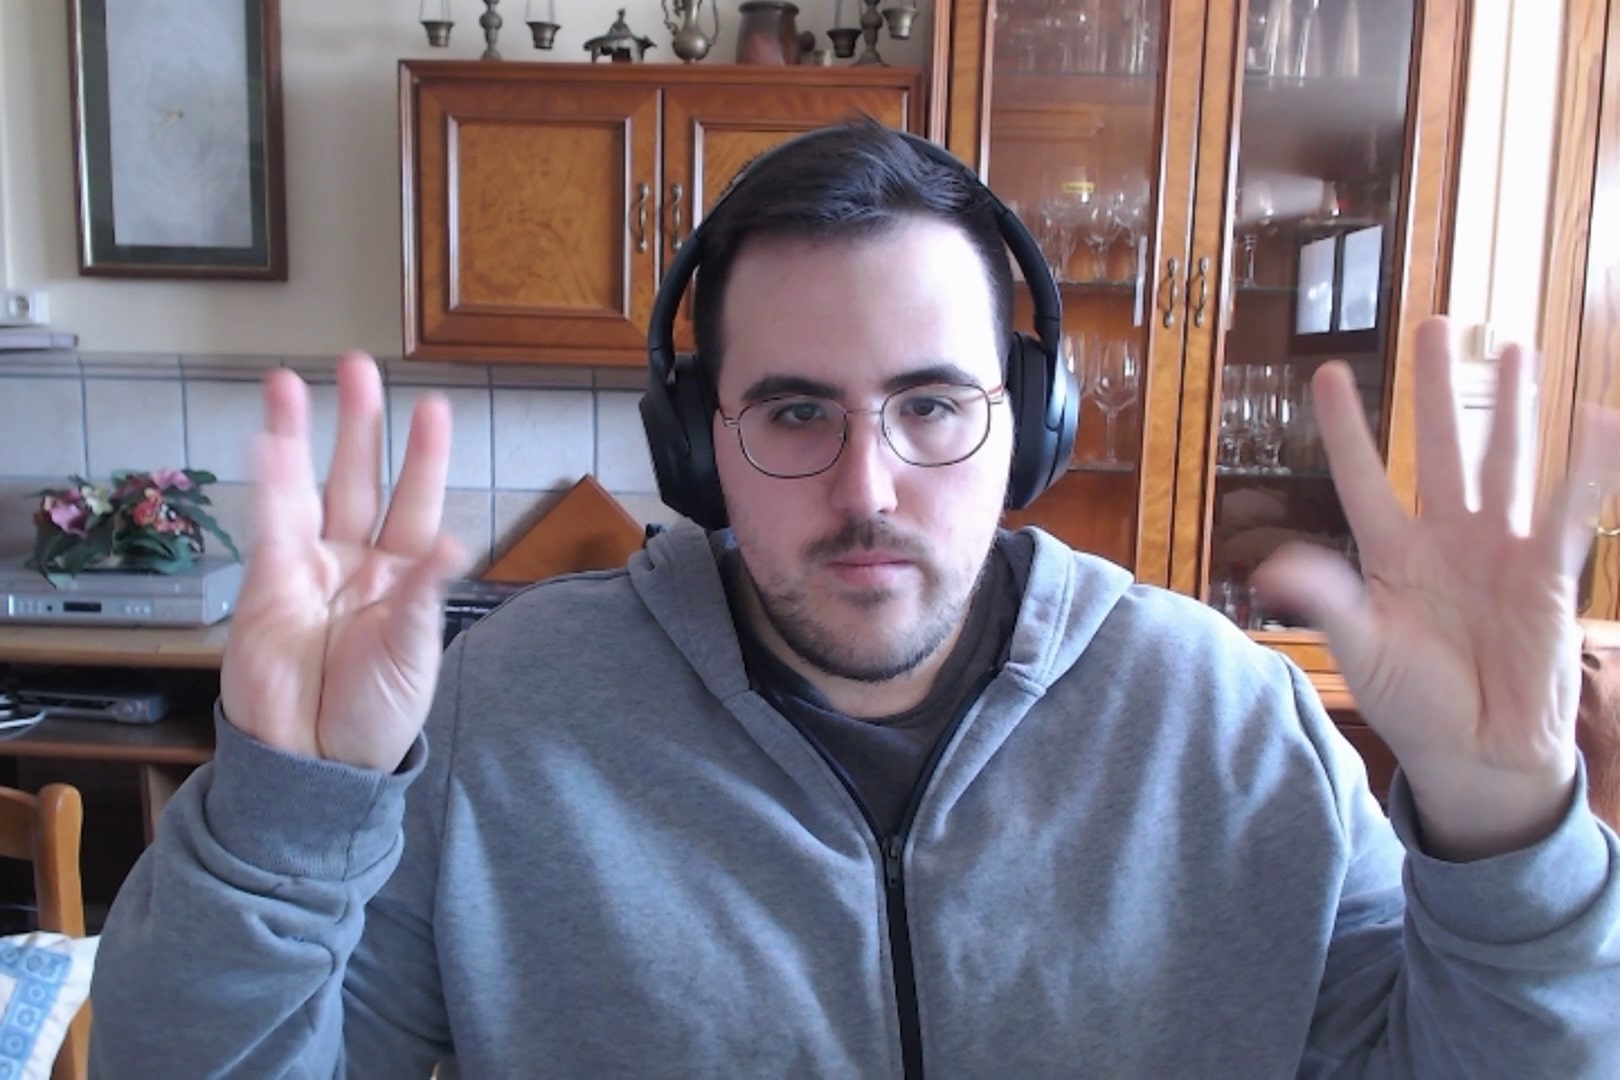hand: (1248, 311, 1620, 782), (215, 346, 477, 777)
